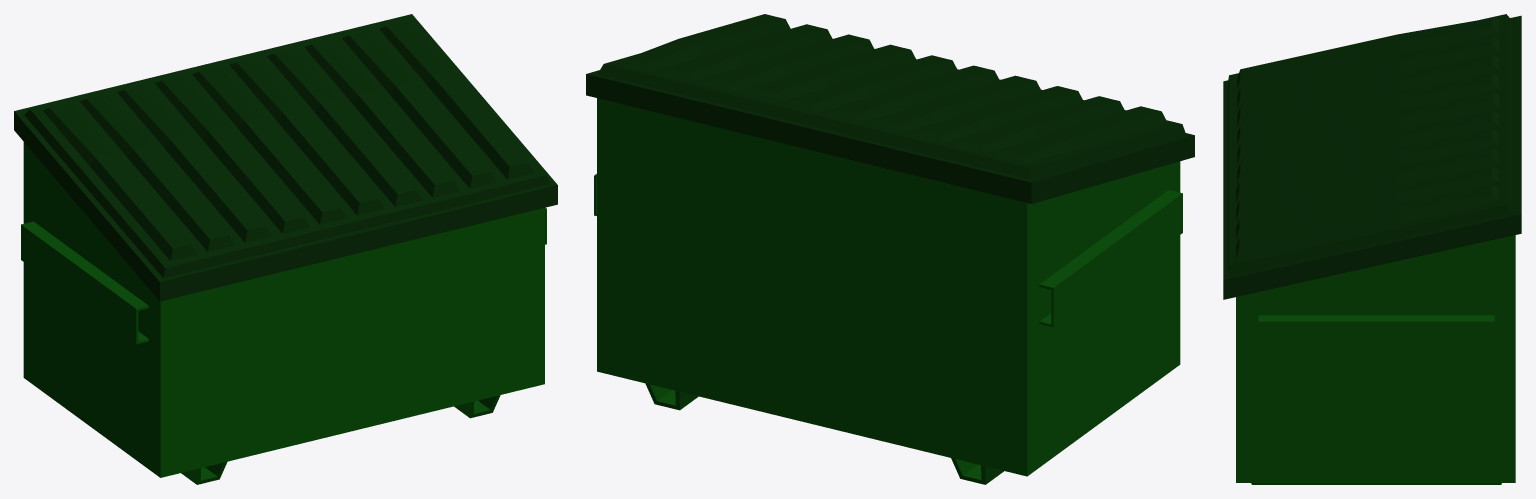
File: Dumpster.fbx
3 renders of one model, left to right at view 1: azimuth 30°, elevation 25°; view 2: azimuth 150°, elevation 25°; view 3: azimuth 270°, elevation 25°, orthographic. The views are drawn at different scales.
Visible parts, largest first — view 1: Dumpster; view 2: Dumpster; view 3: Dumpster.
Boxes of the visible parts, x1,y1,x2,y2 form: Dumpster: (14, 14, 557, 484); Dumpster: (586, 14, 1194, 484); Dumpster: (1223, 14, 1521, 484).
Size of what is drawn, in the model's own units: 3.01 by 2.09 by 1.85.
